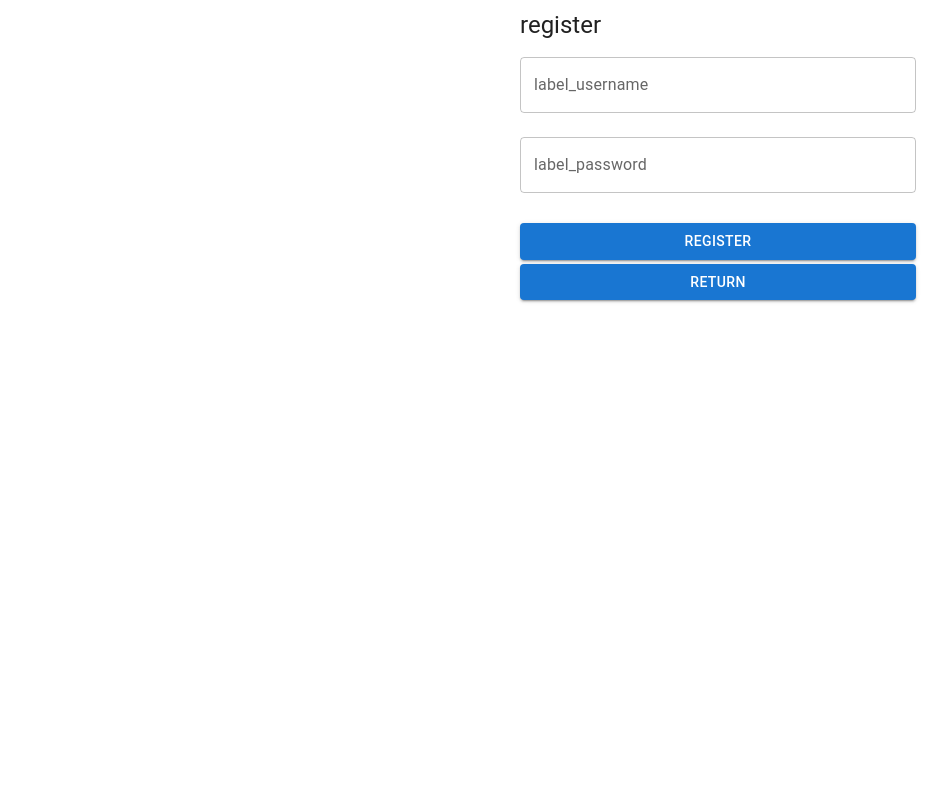
it: Register component › should add user successfully
The width and height of the screenshot is (934, 795).
Simulate user input
Type "testUser" into the field labelled "label_username" at (718, 85), box x1=520 y1=57 x2=916 y2=113
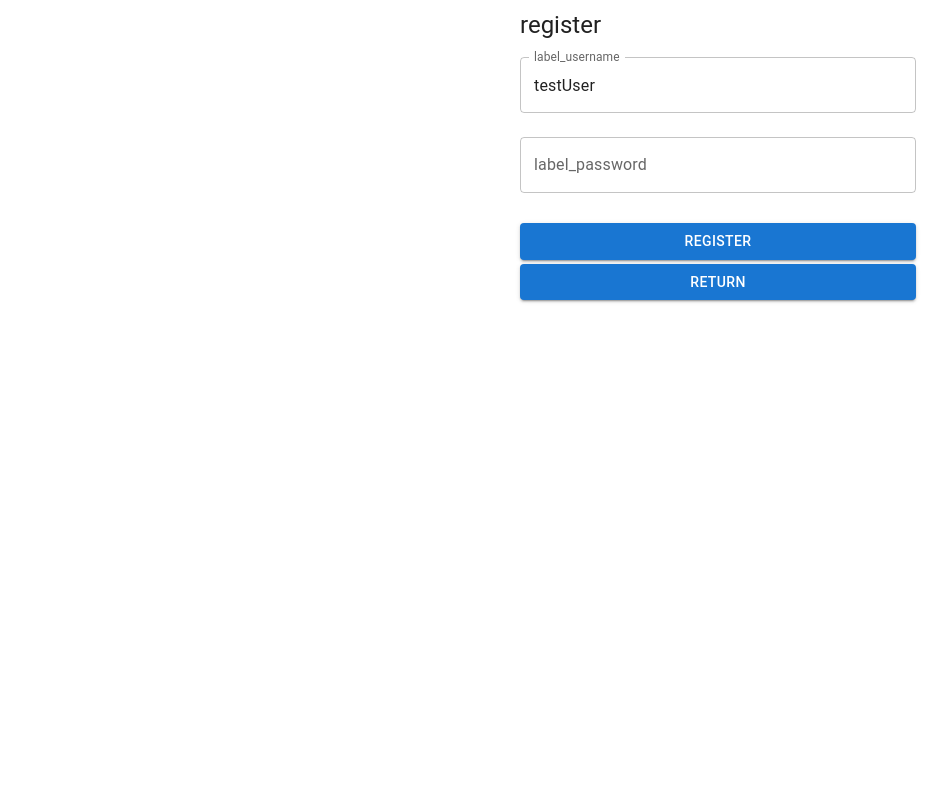
Type "testPassword" into the password field labelled "label_password" at (718, 165), box x1=520 y1=137 x2=916 y2=193
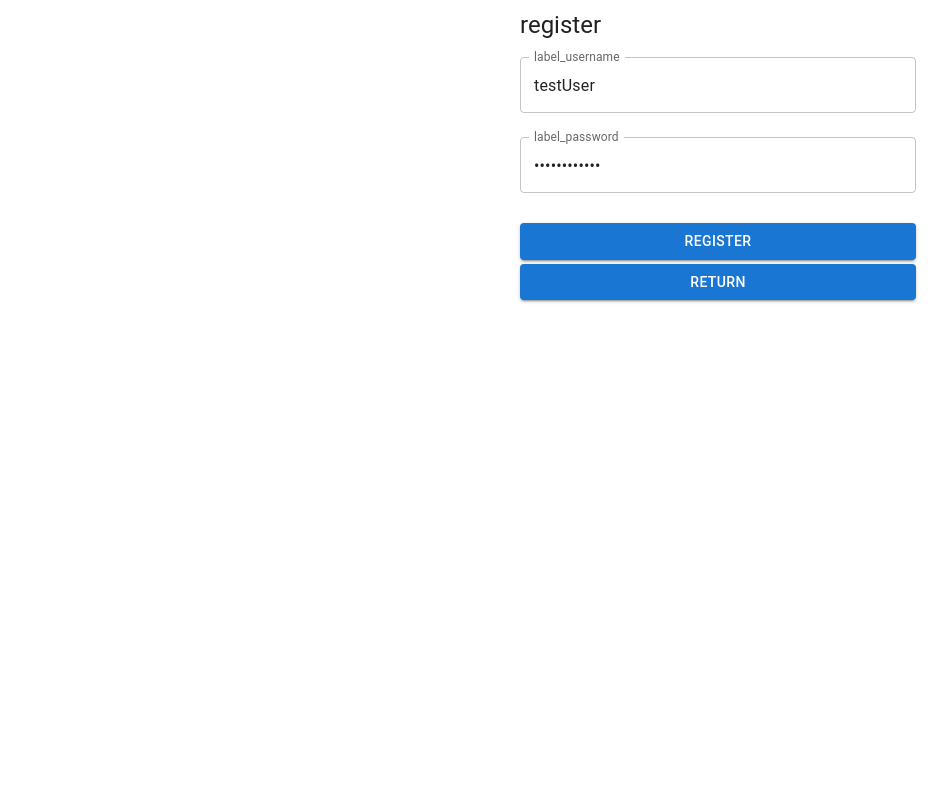
Trigger the add user button click
Click the button "register" at (718, 241), box x1=520 y1=223 x2=916 y2=260
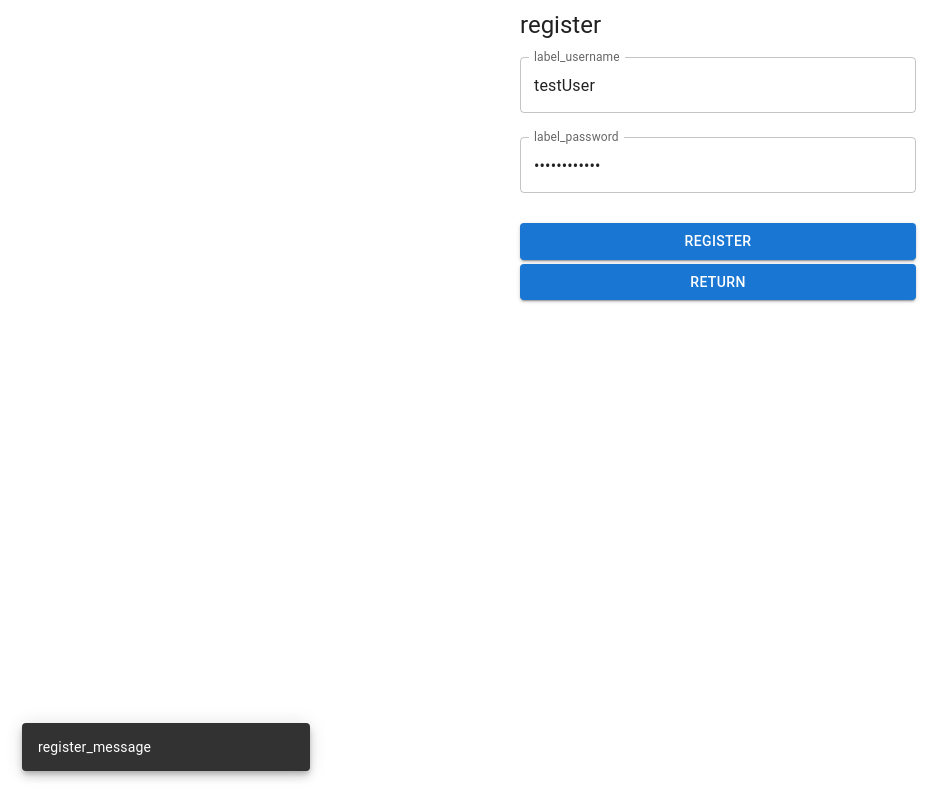
Expected: the element with test id "register-successfull-snackbar" is shown, x1=22 y1=723 x2=310 y2=771
